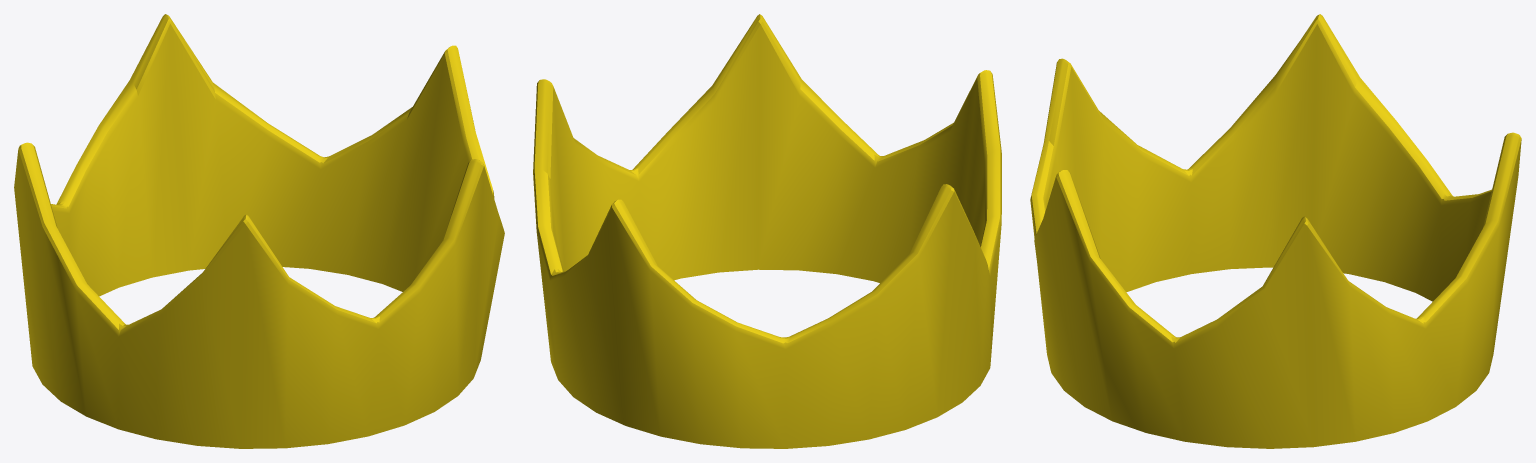
File: crown.fbx
3 renders of one model, left to right at view 1: azimuth 30°, elevation 25°; view 2: azimuth 150°, elevation 25°; view 3: azimuth 270°, elevation 25°, orthographic. The views are drawn at different scales.
Visible parts, largest first — view 1: Cylinder; view 2: Cylinder; view 3: Cylinder.
Part boxes in pixels (<box>): Cylinder: <box>14,14,504,448</box>; Cylinder: <box>533,14,1001,448</box>; Cylinder: <box>1030,14,1521,448</box>.
Size of the model in its own units: 222 by 119 by 220.
